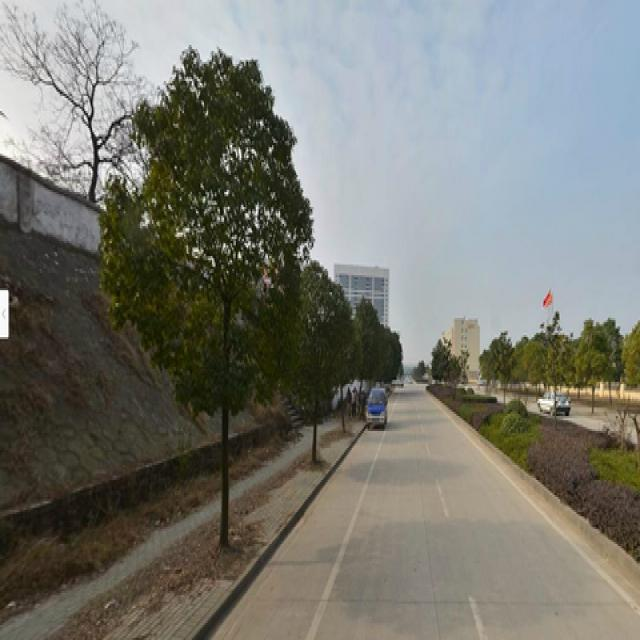cinn: (139, 79, 268, 542), (298, 271, 338, 465)
